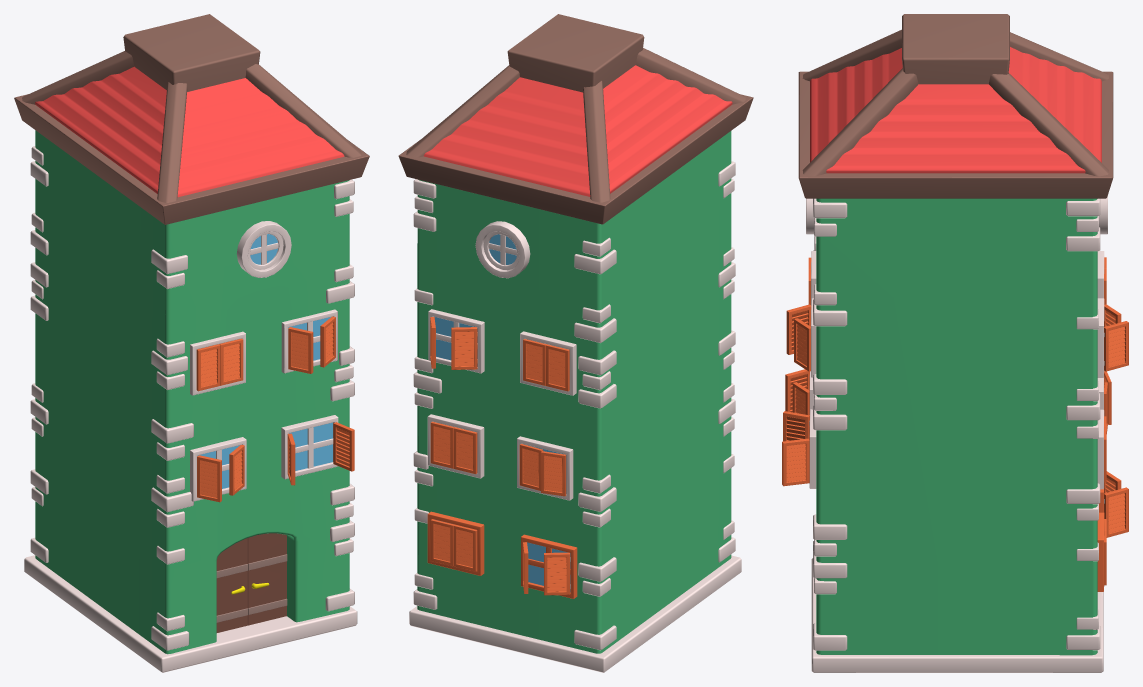
Rendered from City_4_House_1.glb.
3 views of the same model, side by side, from view 1: azimuth 30°, elevation 25°; view 2: azimuth 150°, elevation 25°; view 3: azimuth 270°, elevation 25° (orthographic). The views are drawn at different scales.
Visible parts, largest first — view 1: City_4_House_1; view 2: City_4_House_1; view 3: City_4_House_1.
Part boxes in pixels (bbox=[...]): City_4_House_1: bbox=[14, 14, 369, 672]; City_4_House_1: bbox=[398, 14, 753, 672]; City_4_House_1: bbox=[782, 14, 1128, 672].
Size of the model in its own units: 5.76 by 14.8 by 7.91.
Materials: 1 (1 with a texture image).
